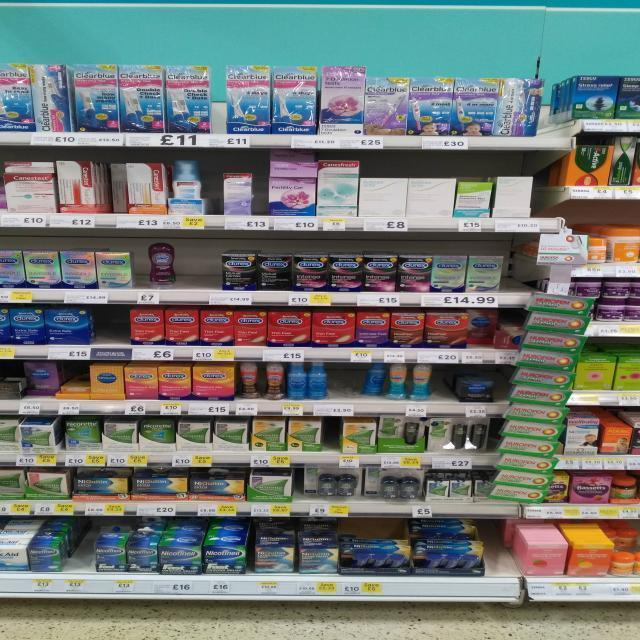Imprecise: (15, 358, 60, 403), (94, 160, 130, 210)
